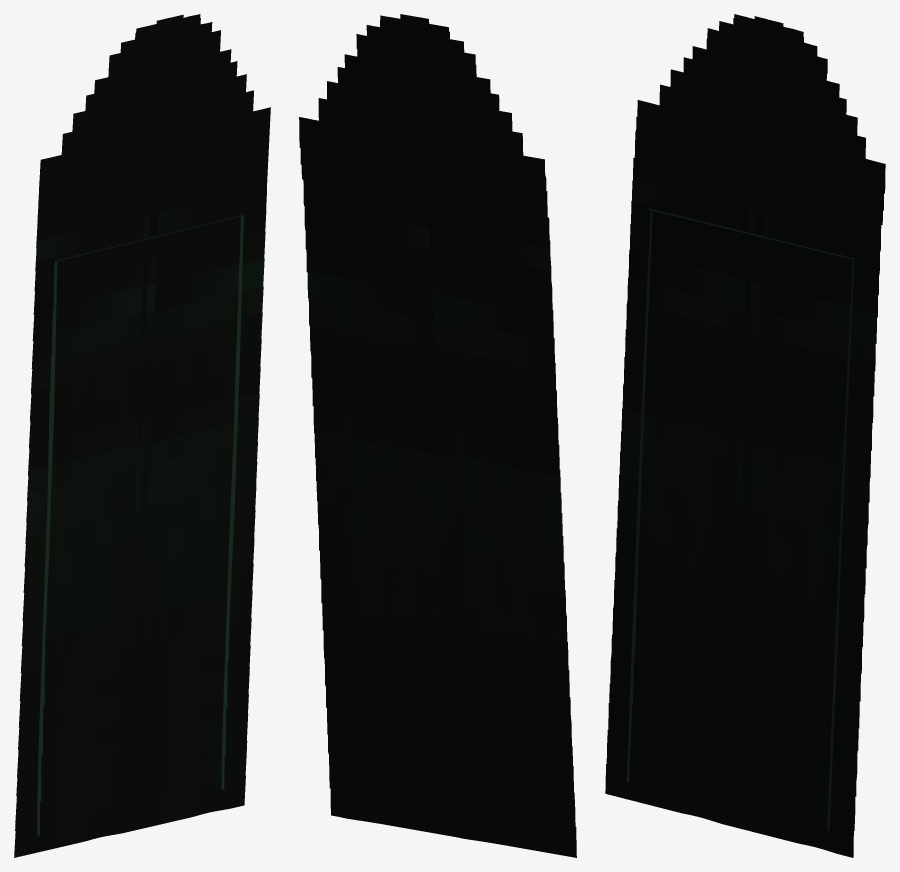
Rendered from Mesh-Portal-L.fbx.
3 renders of one model, left to right at view 1: azimuth 30°, elevation 25°; view 2: azimuth 150°, elevation 25°; view 3: azimuth 330°, elevation 25°, orthographic.
Parts seen in each view (by area): view 1: NewLayer0; view 2: NewLayer0; view 3: NewLayer0.
Part boxes in pixels (x1=…): NewLayer0: x1=14, y1=14, x2=270, y2=857; NewLayer0: x1=299, y1=14, x2=576, y2=857; NewLayer0: x1=605, y1=14, x2=885, y2=857.
Size of the model in its own units: 0.2812 by 0.8175 by 0.0208.
